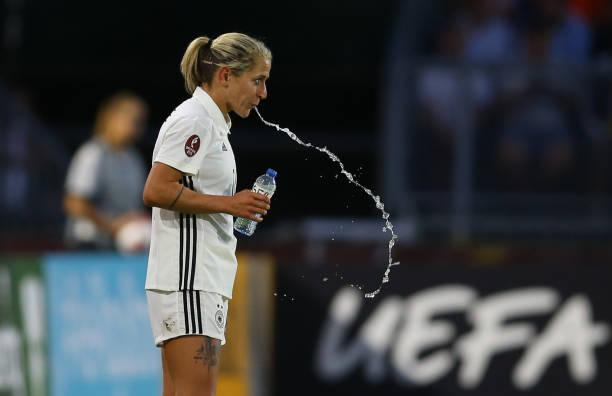Spitting: (178, 26, 341, 147)
